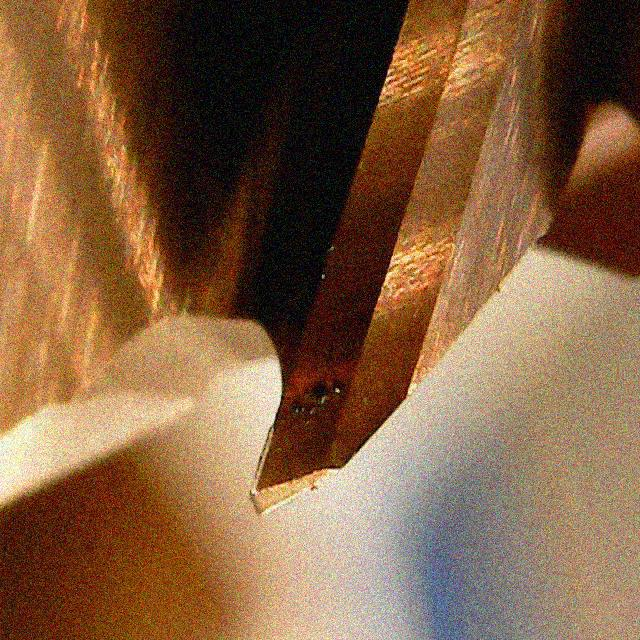Tool-wear-class-0: (247, 284, 414, 516)
